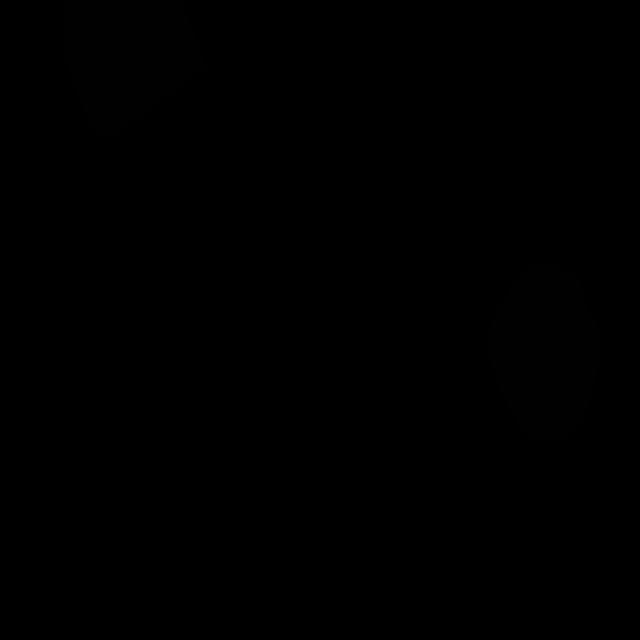rigid_plastic: (487, 262, 602, 441), (62, 0, 207, 139)
